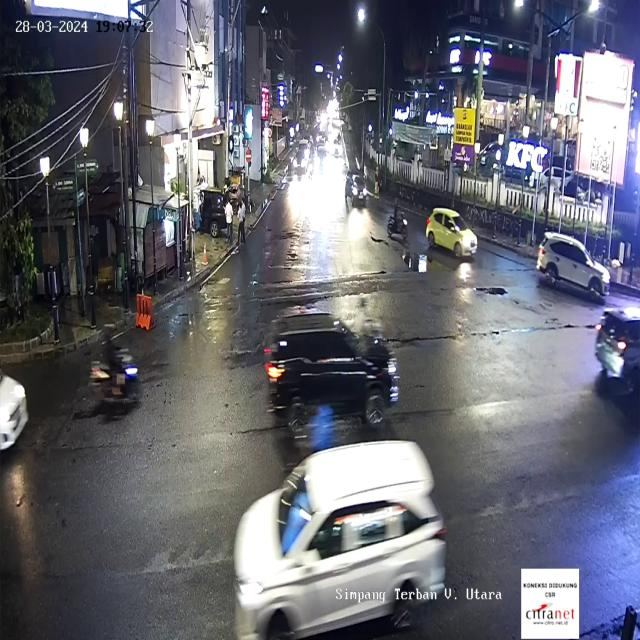car: (231, 438, 448, 640), (262, 311, 395, 428), (536, 234, 610, 303), (593, 307, 639, 392), (425, 207, 479, 260), (344, 165, 368, 206)
motorcycle: (89, 312, 138, 409), (387, 193, 408, 245)
